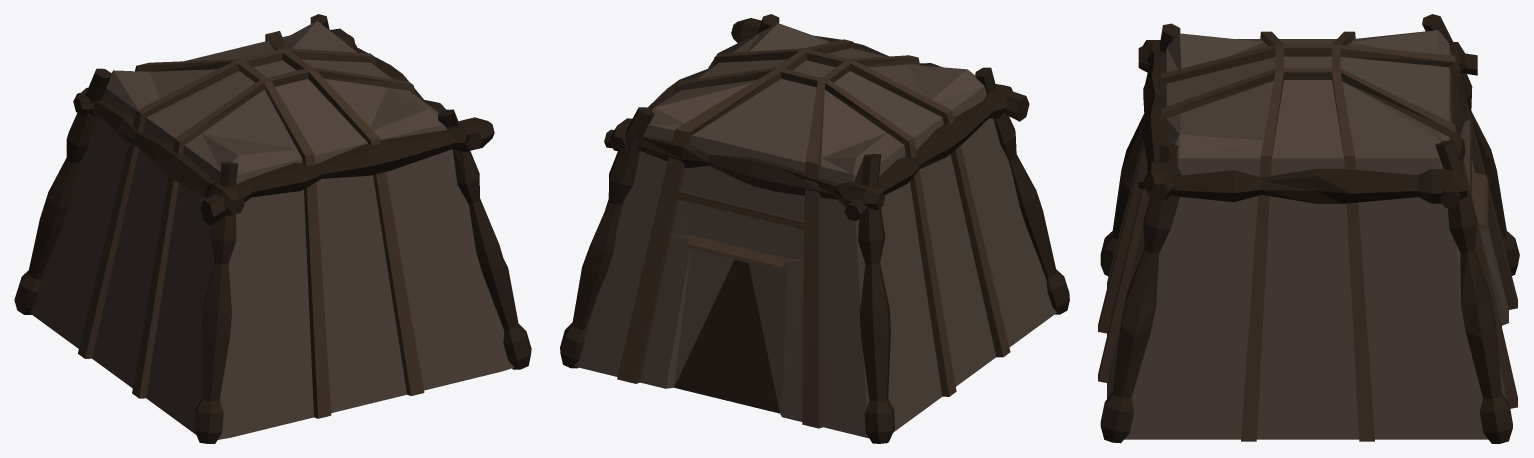
The model's file is FMP_Tent_Main_Shaded.fbx.
3 views of the same model, side by side, from view 1: azimuth 30°, elevation 25°; view 2: azimuth 150°, elevation 25°; view 3: azimuth 270°, elevation 25° (orthographic). The views are drawn at different scales.
Visible parts, largest first — view 1: polySurface11; view 2: polySurface11; view 3: polySurface11.
Part boxes in pixels (x1,y1,x2,y2): polySurface11: (14, 14, 531, 443); polySurface11: (560, 14, 1069, 443); polySurface11: (1098, 14, 1519, 443).
Size of the model in its own units: 622 by 486 by 616.
